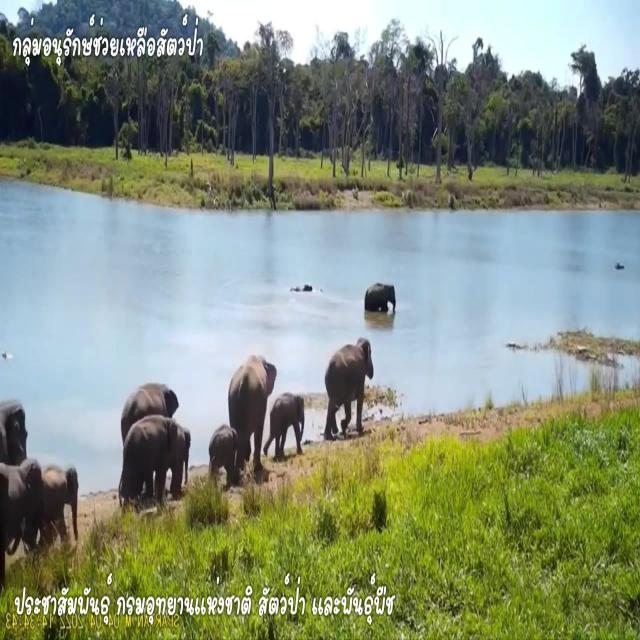Elephant: (124, 416, 194, 507), (324, 332, 374, 418), (222, 348, 276, 426), (0, 446, 41, 548), (118, 381, 180, 434), (40, 464, 82, 536), (272, 393, 310, 451), (206, 419, 240, 476), (364, 280, 397, 317)
